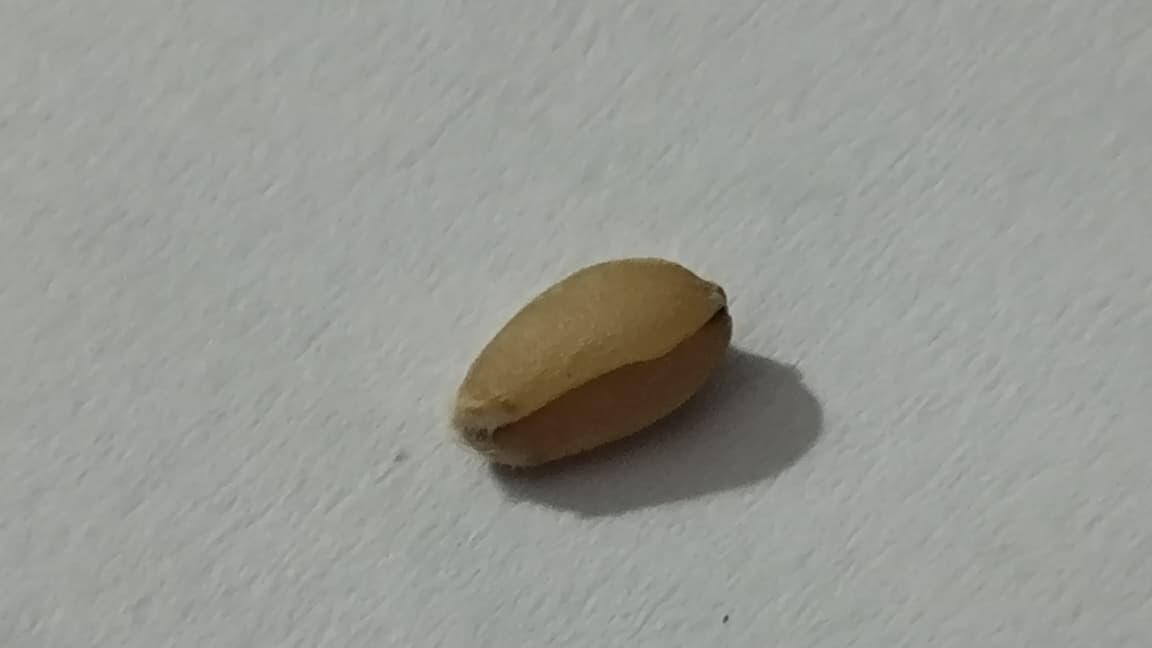healthy: (453, 258, 731, 466)
